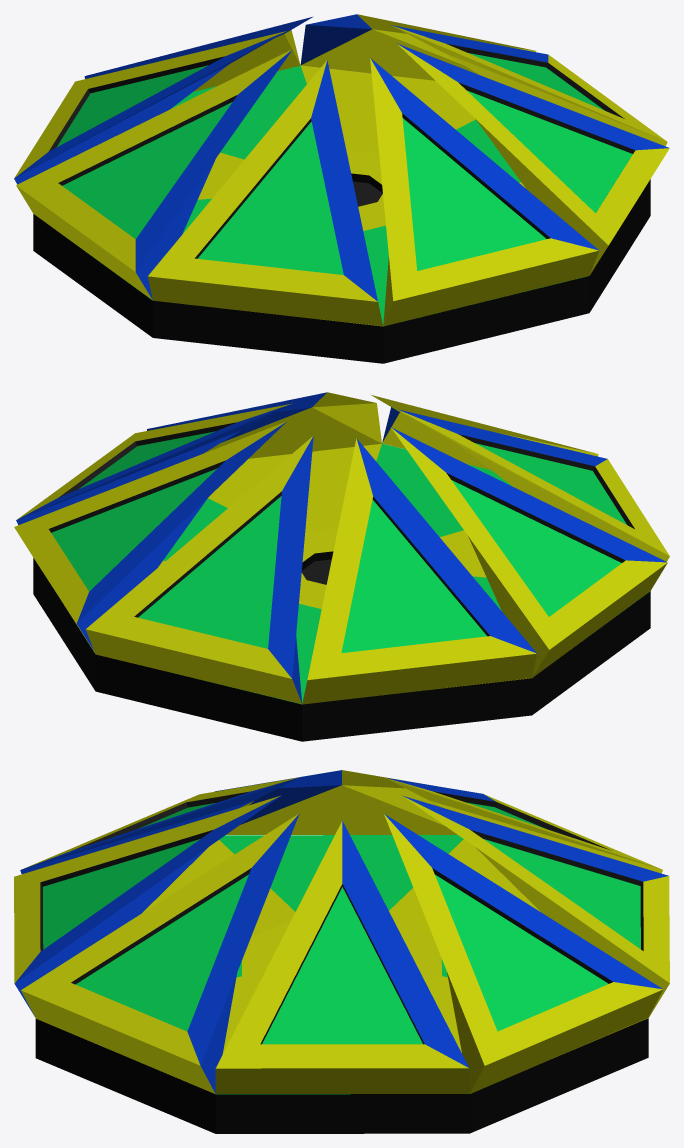
Rendered from spawner1.obj.
The picture shows the model from 3 angles, top to bottom: view 1: azimuth 30°, elevation 25°; view 2: azimuth 150°, elevation 25°; view 3: azimuth 270°, elevation 25°; orthographic projection. The views are drawn at different scales.
Visible parts, largest first — view 1: Cone; view 2: Cone; view 3: Cone.
Boxes of the visible parts, <box> form: Cone: <box>14,14,669,363</box>; Cone: <box>14,392,669,741</box>; Cone: <box>14,770,669,1133</box>.
Size of the model in its own units: 1.98 by 0.6955 by 1.98.
